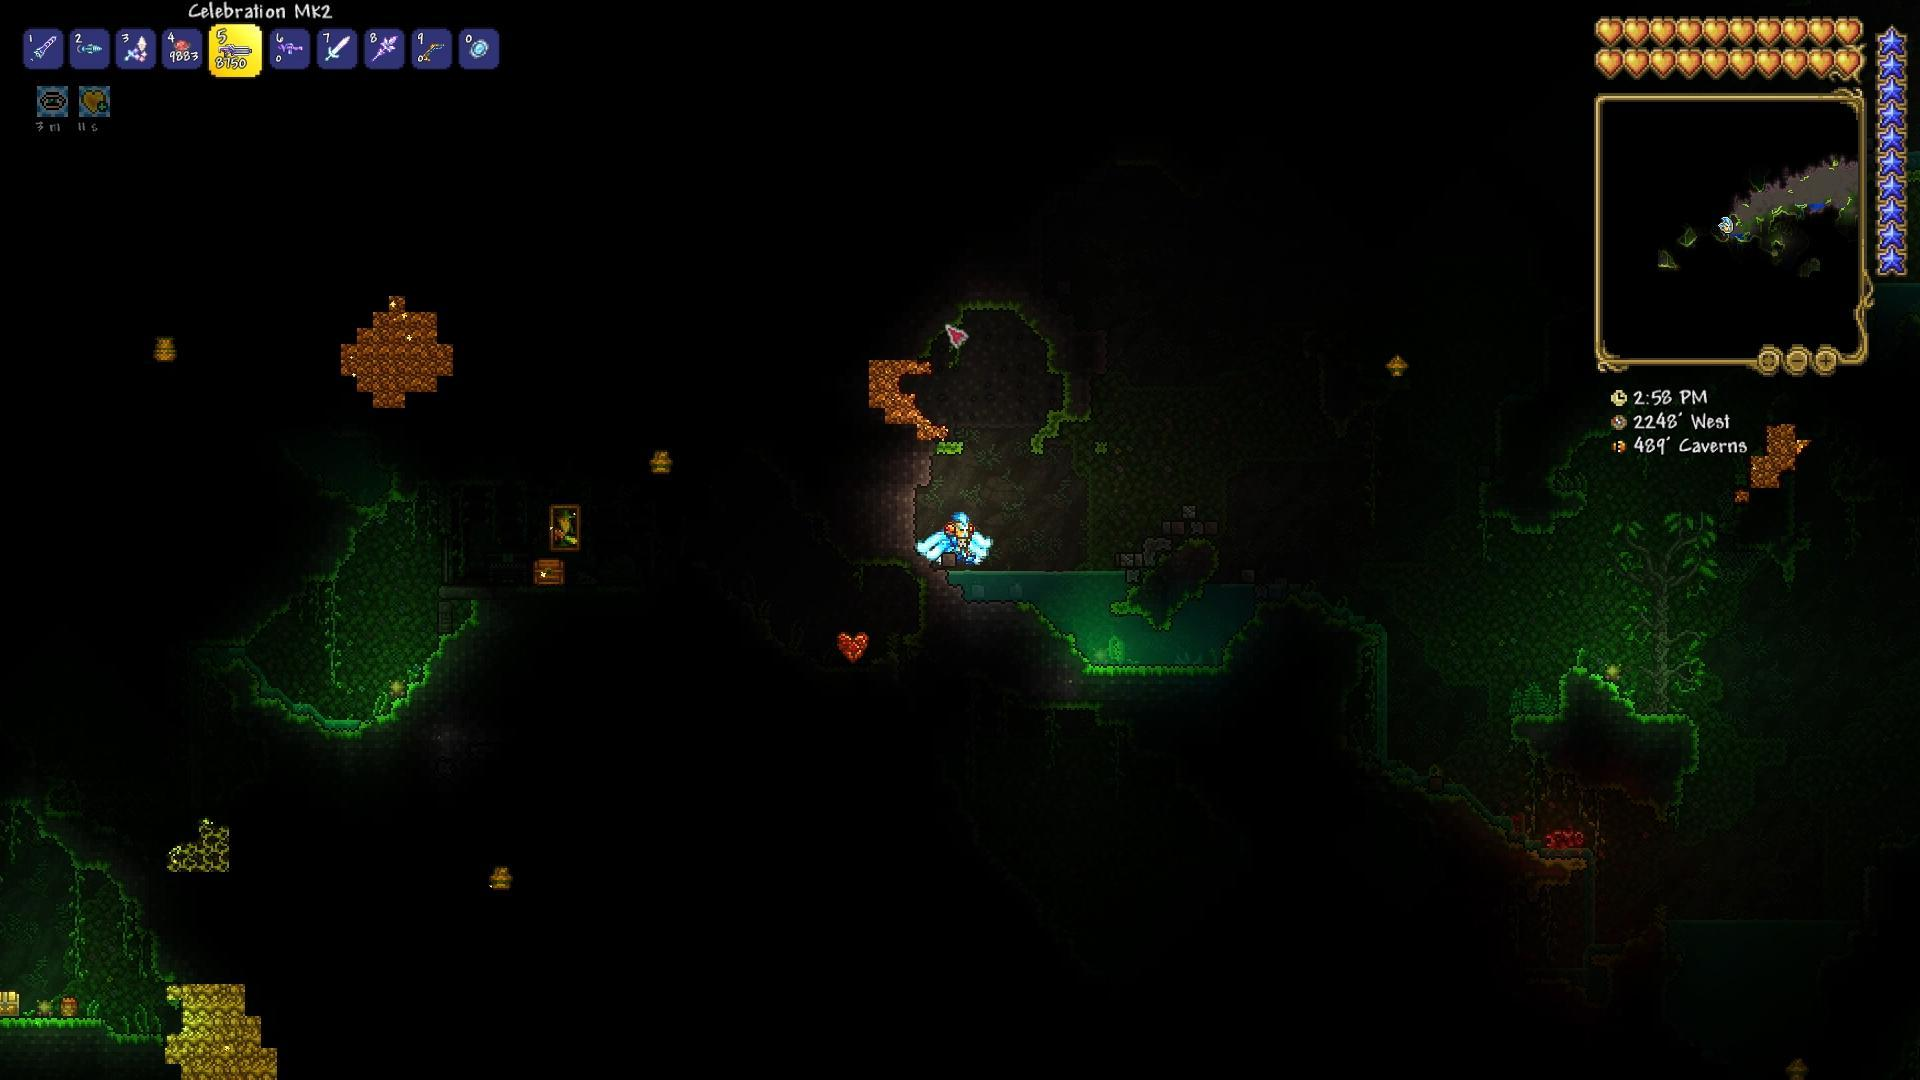altar: (1540, 823, 1588, 861)
lifeC: (836, 629, 870, 666)
